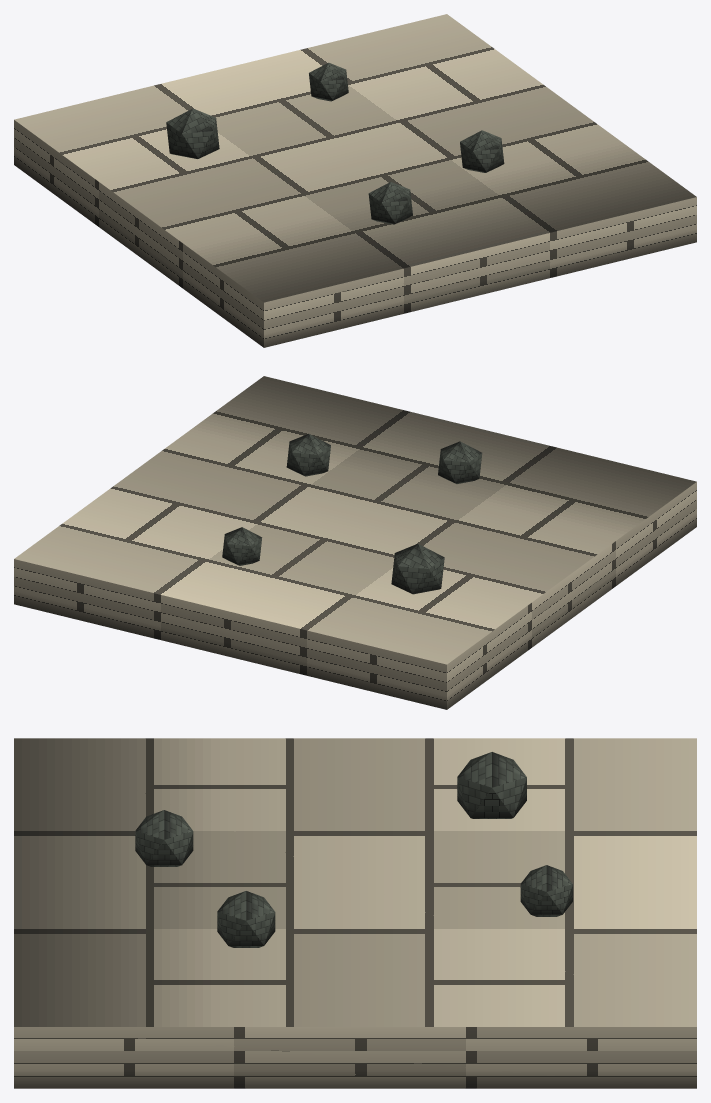
Rendered from ground_gravel.gltf.
3 renders of one model, top to bottom at view 1: azimuth 30°, elevation 25°; view 2: azimuth 150°, elevation 25°; view 3: azimuth 270°, elevation 25°, orthographic. The views are drawn at different scales.
Visible parts, largest first — view 1: ground_gravel; view 2: ground_gravel; view 3: ground_gravel.
Part boxes in pixels (box(x1,y1,x2,y2)): ground_gravel: box(14, 14, 696, 347); ground_gravel: box(14, 376, 696, 709); ground_gravel: box(14, 738, 696, 1088).
Size of the model in its own units: 1 by 0.19 by 1.
1 material, 1 textured.
